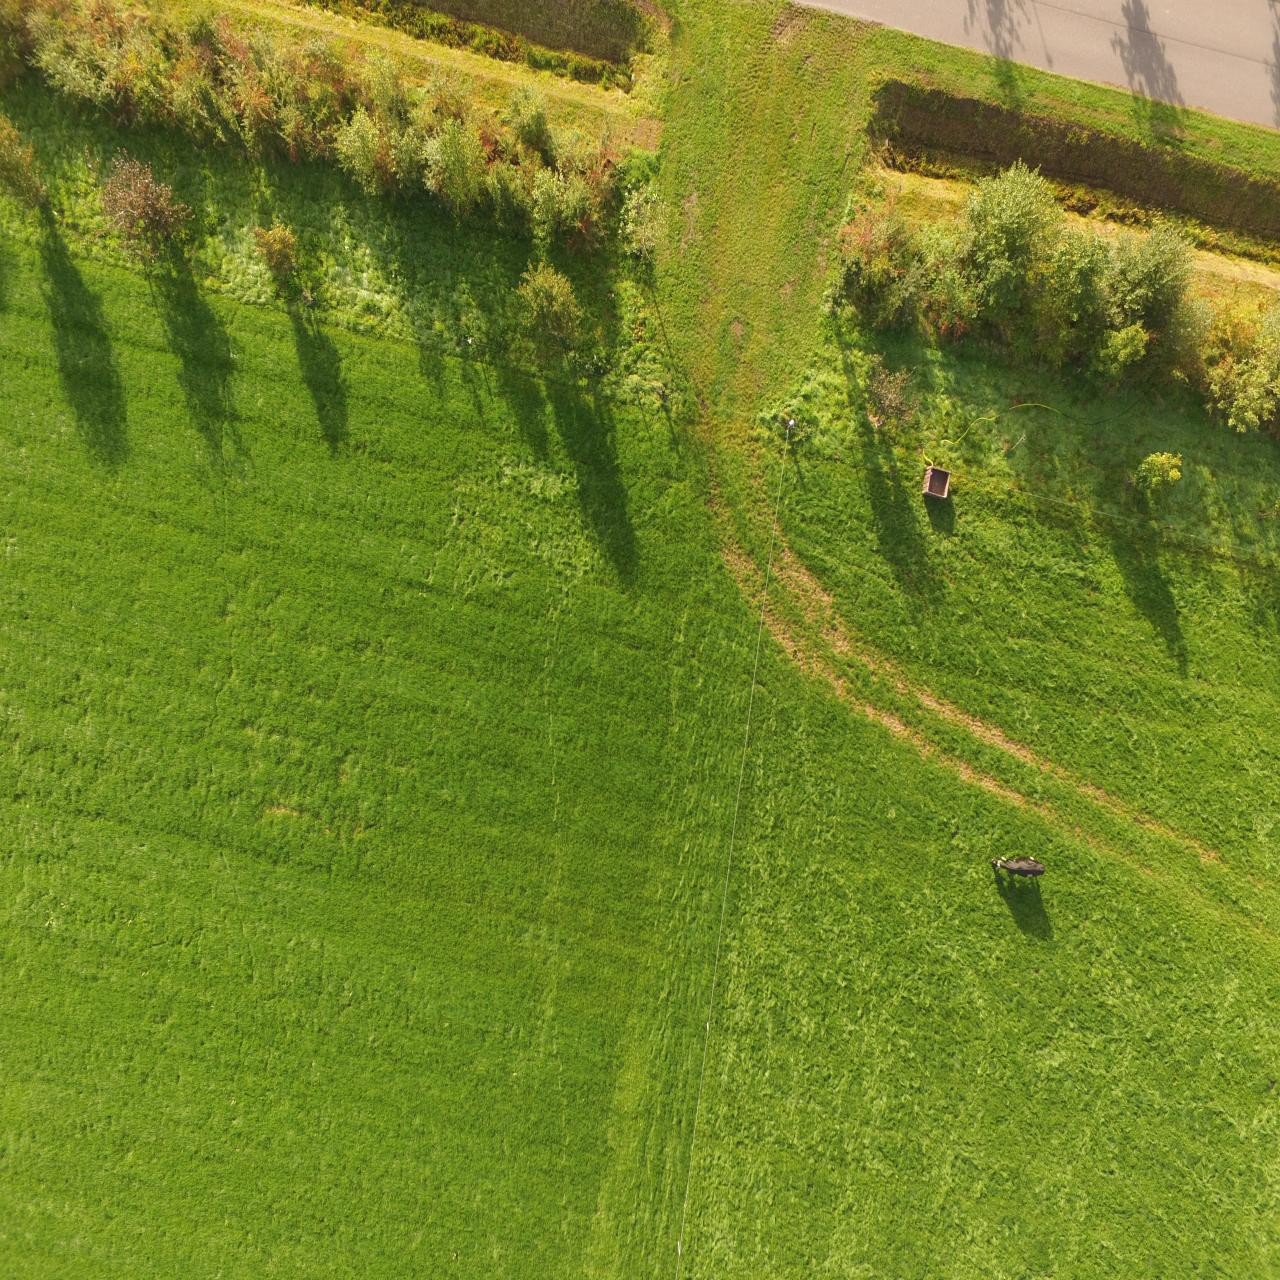cow: (988, 853, 1047, 877)
